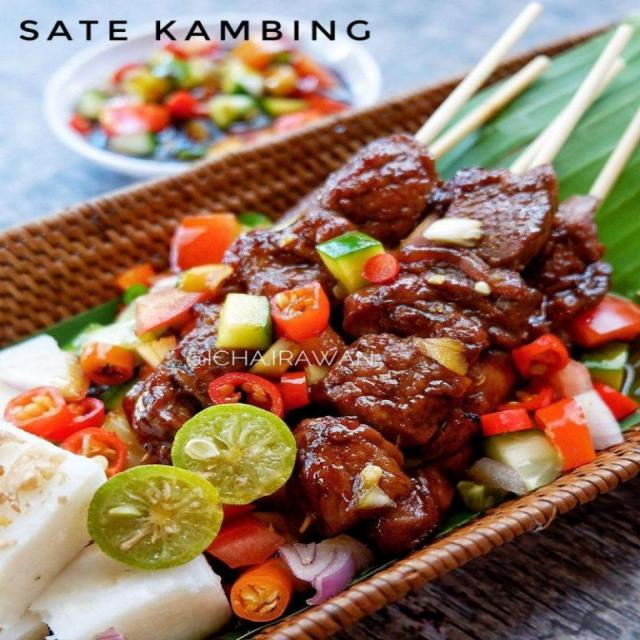Sate: (98, 0, 640, 532)
